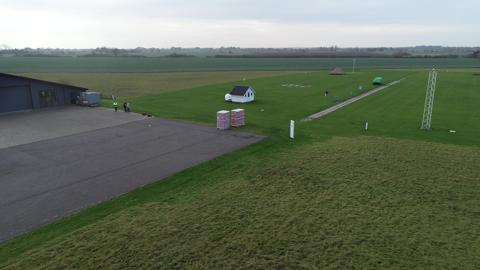RockwoolPallet: (231, 109, 243, 127)
